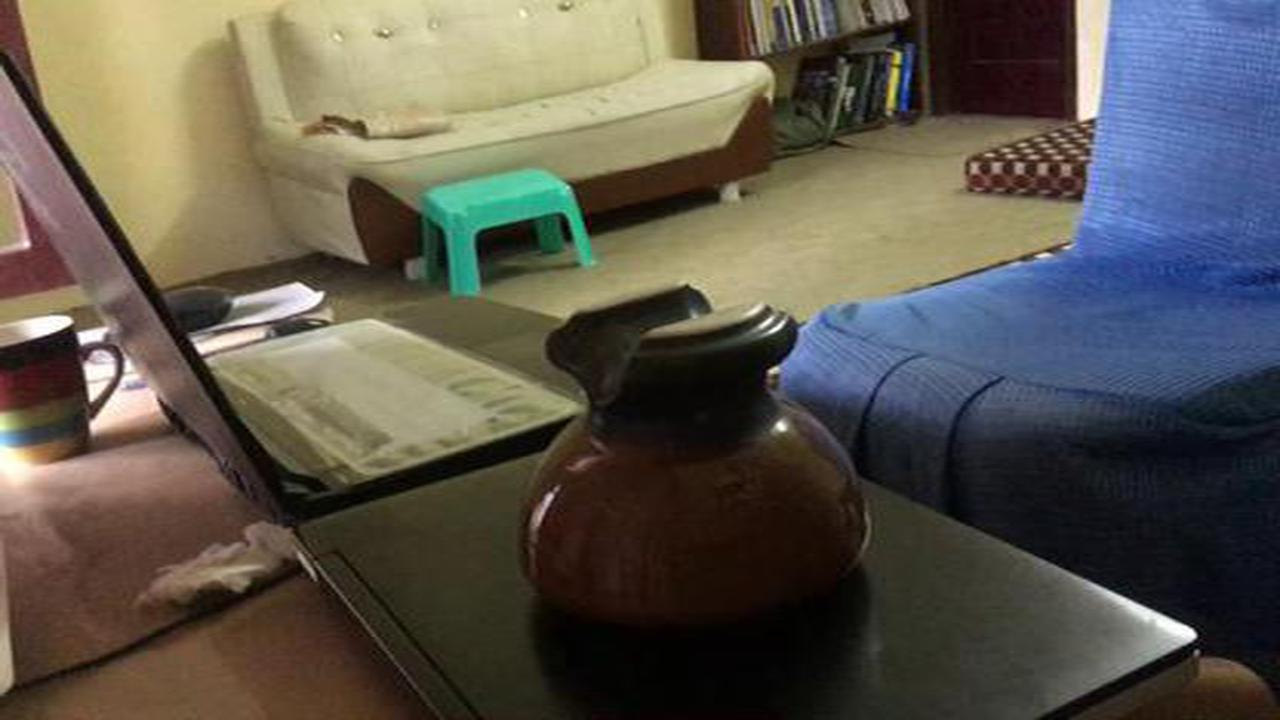insulator_pin: (498, 283, 887, 644)
